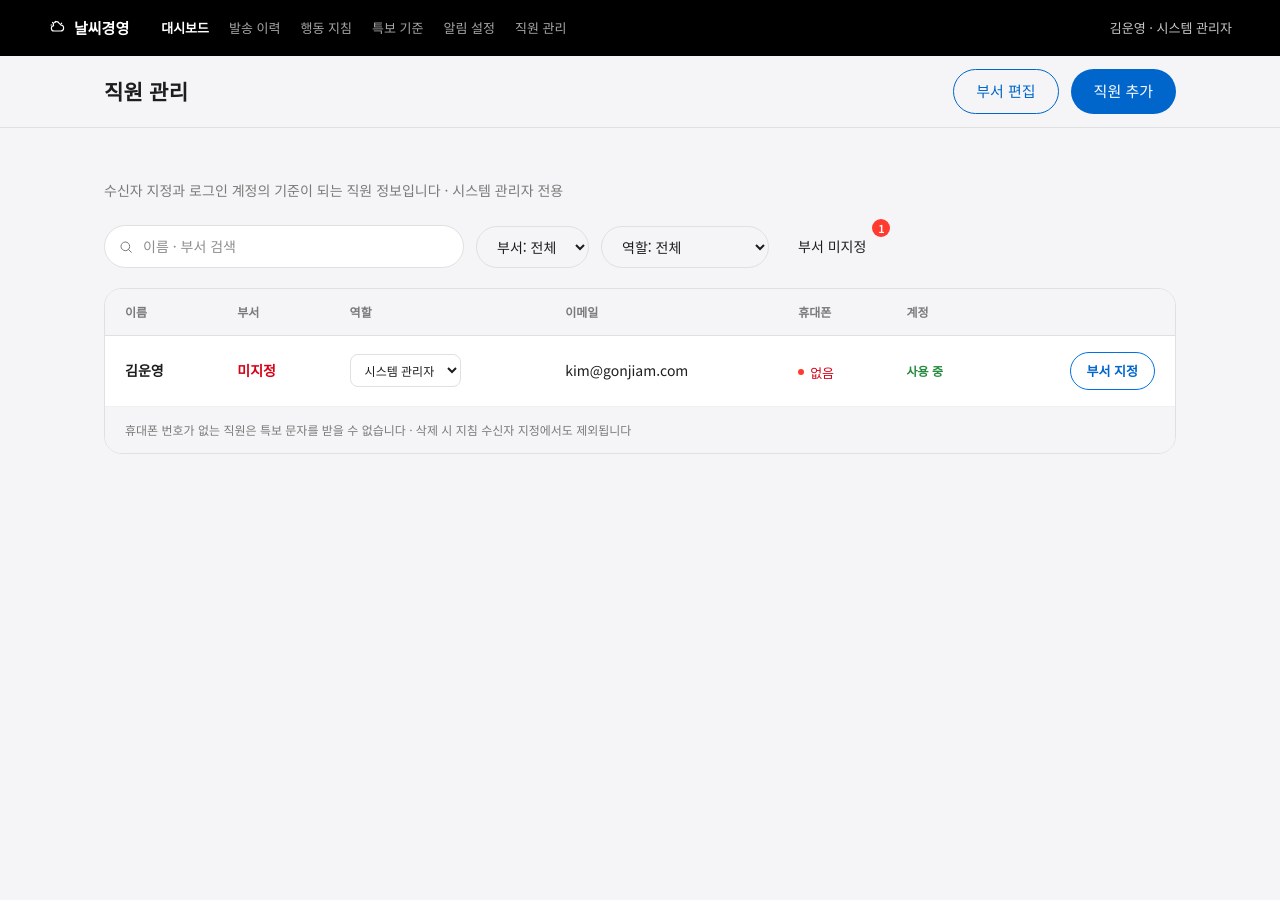
Scenario: Employees 역할 변경 확인 (QA W-19 · 결정 D-3c) › 마지막 관리자는 자기 역할을 내릴 수 없다
Select "실무자" in the dropdown named "김운영 역할": [405, 371] box [350,354,461,387]
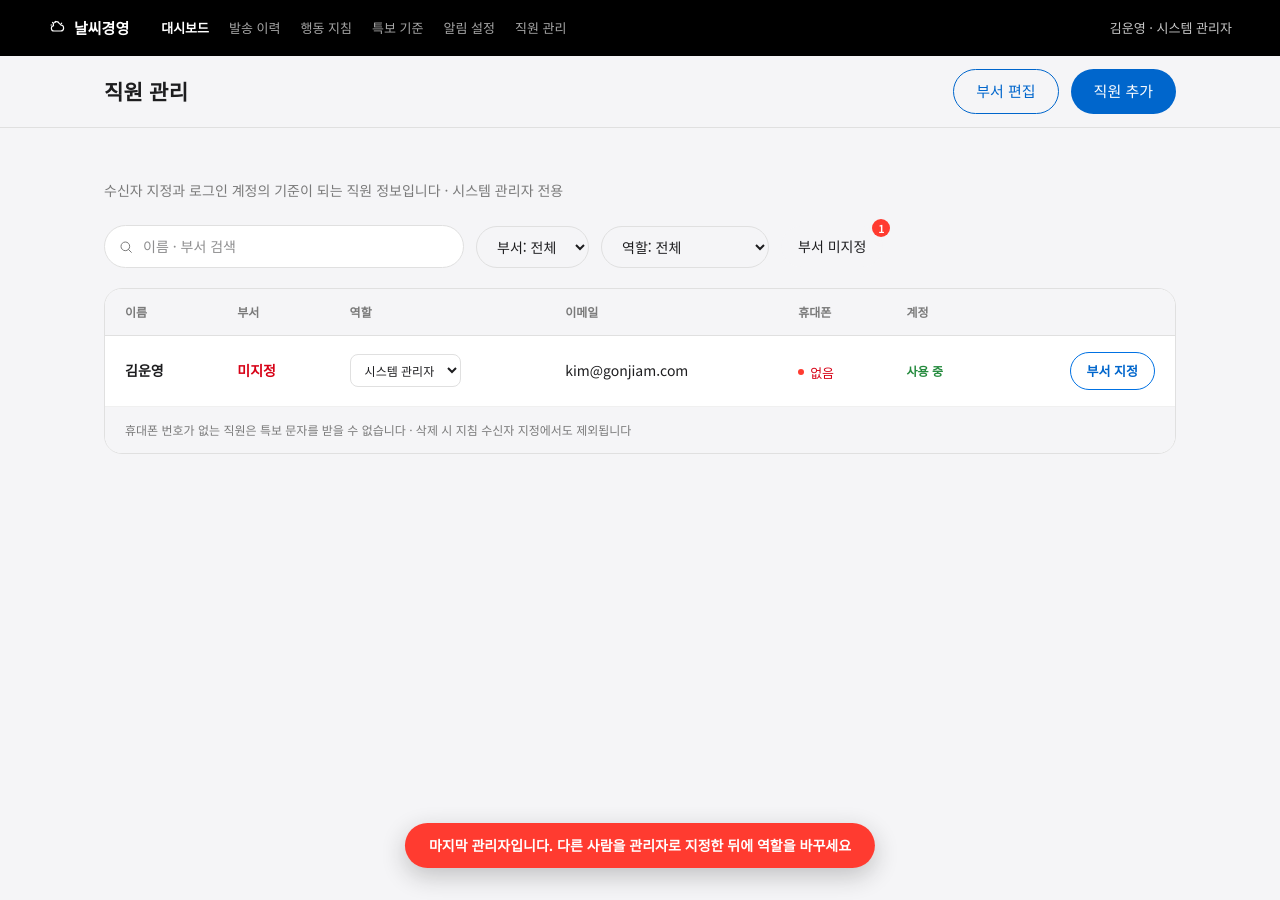
Check: the text "마지막 관리자입니다. 다른 사람을 관리자로 지정한 뒤에 역할을 바꾸세요" is shown, box [405,823,875,868]
